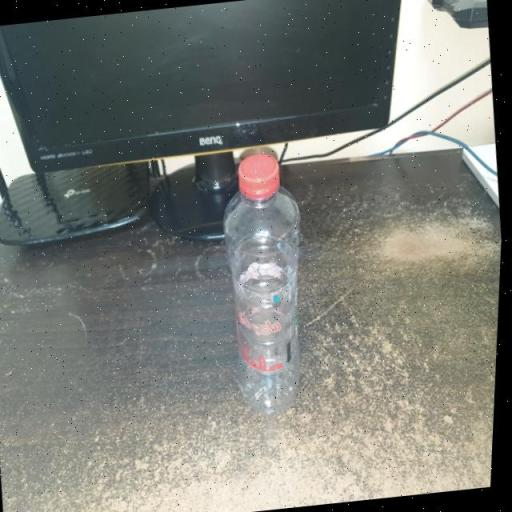plastic: (205, 147, 327, 422)
